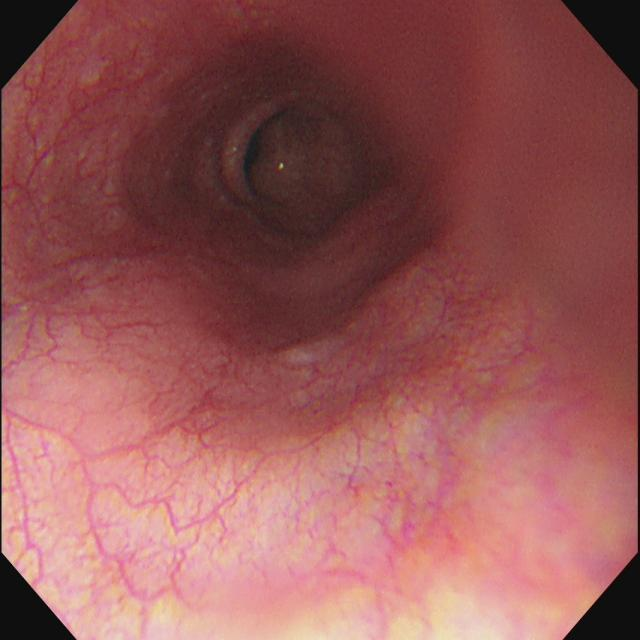E: (207, 75, 385, 247)
